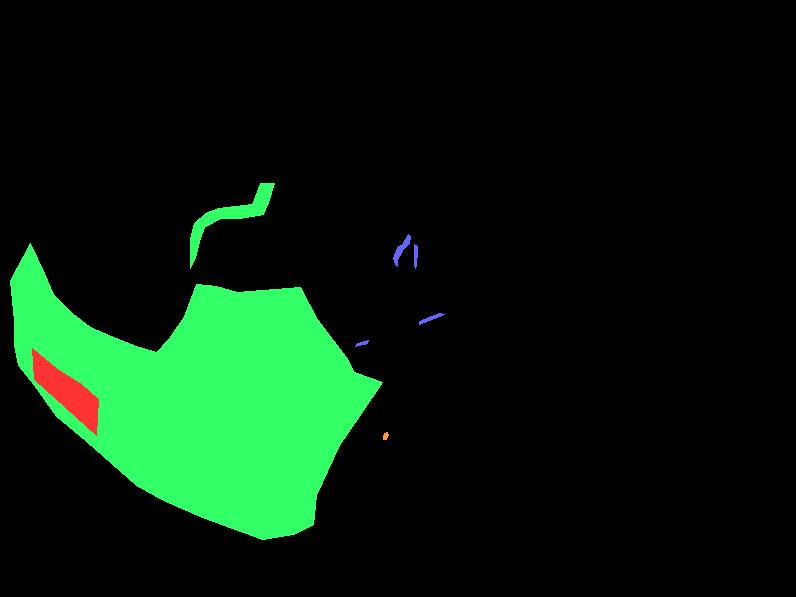Broken part: (10, 243, 382, 539), (190, 183, 274, 268)
Missing part: (32, 348, 98, 435)
Paint chip: (383, 432, 388, 439)
Scratch: (130, 436, 167, 477), (393, 234, 410, 266), (419, 313, 444, 324), (355, 340, 368, 346), (414, 244, 417, 268)
